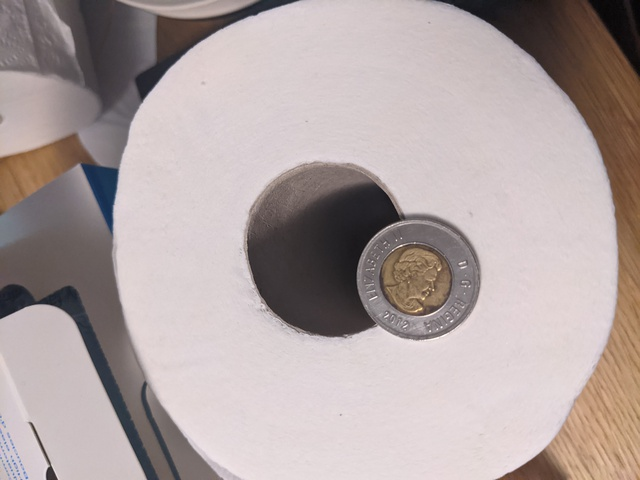twonie: (348, 213, 489, 332)
